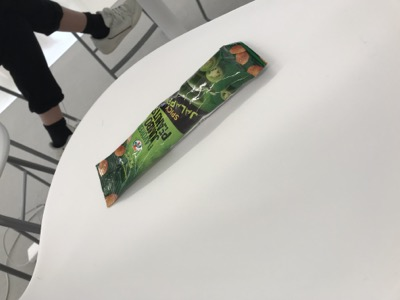peanut: (94, 40, 268, 208)
